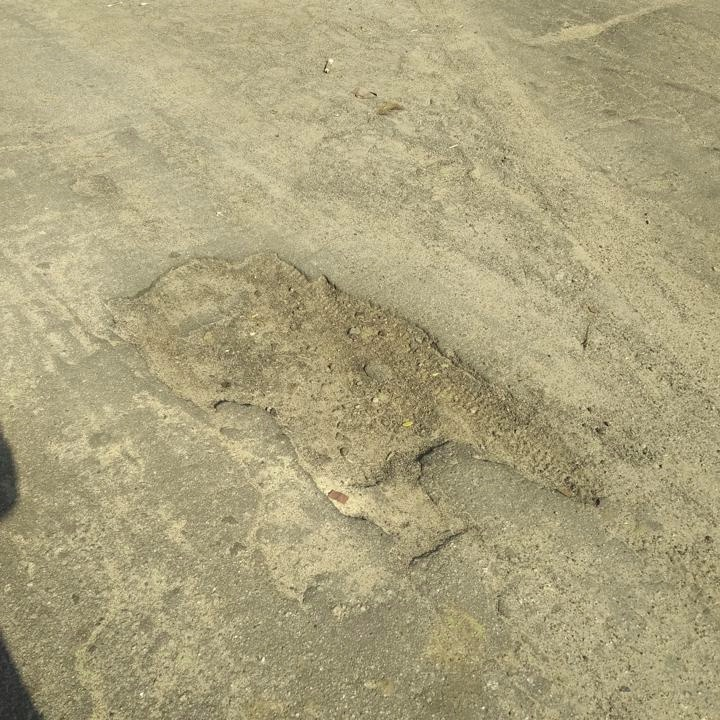pothole: (98, 243, 610, 569)
